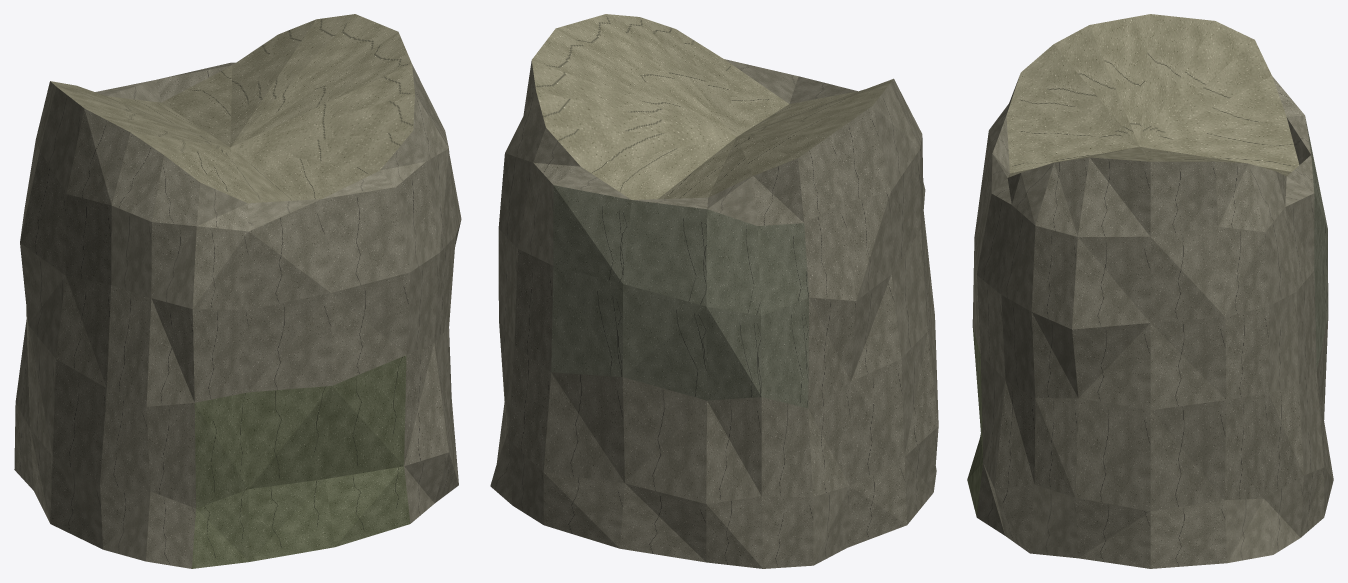
The model's file is SM_QD_Reef_B_SplitMass.fbx.
3 renders of one model, left to right at view 1: azimuth 30°, elevation 25°; view 2: azimuth 150°, elevation 25°; view 3: azimuth 270°, elevation 25°, orthographic. The views are drawn at different scales.
Visible parts, largest first — view 1: SM_QD_Reef_B_SplitMass; view 2: SM_QD_Reef_B_SplitMass; view 3: SM_QD_Reef_B_SplitMass.
Part boxes in pixels (x1,y1,x2,y2): SM_QD_Reef_B_SplitMass: (14, 14, 461, 568); SM_QD_Reef_B_SplitMass: (490, 14, 938, 568); SM_QD_Reef_B_SplitMass: (967, 14, 1333, 568).
Size of the model in its own units: 3.8 by 3.3 by 3.9.
Materials: 1 (1 with a texture image).
